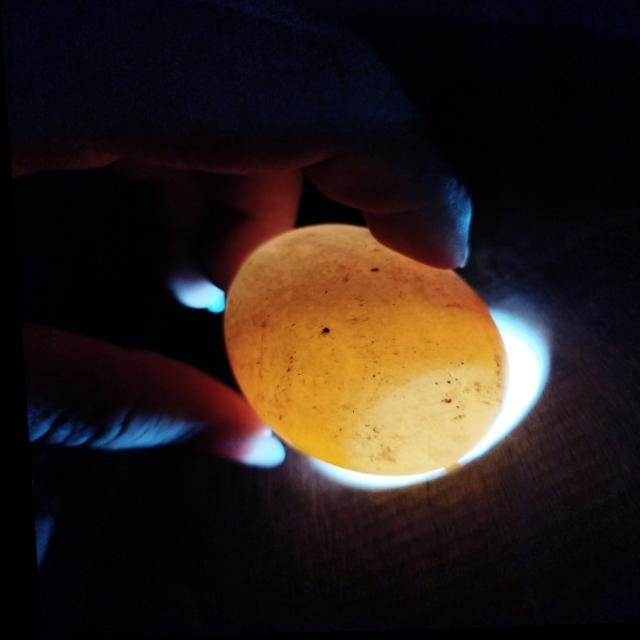Camara de Ar: (345, 370, 503, 478)
